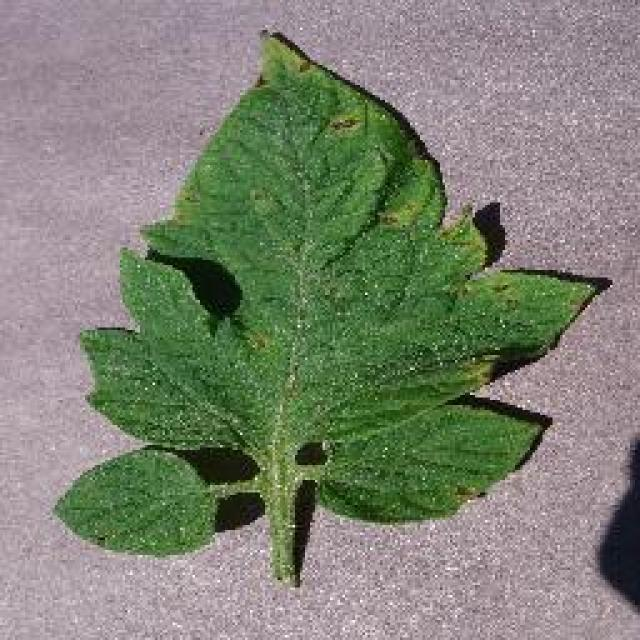Tomato target spot leaf: (81, 26, 604, 504), (52, 448, 226, 554)
